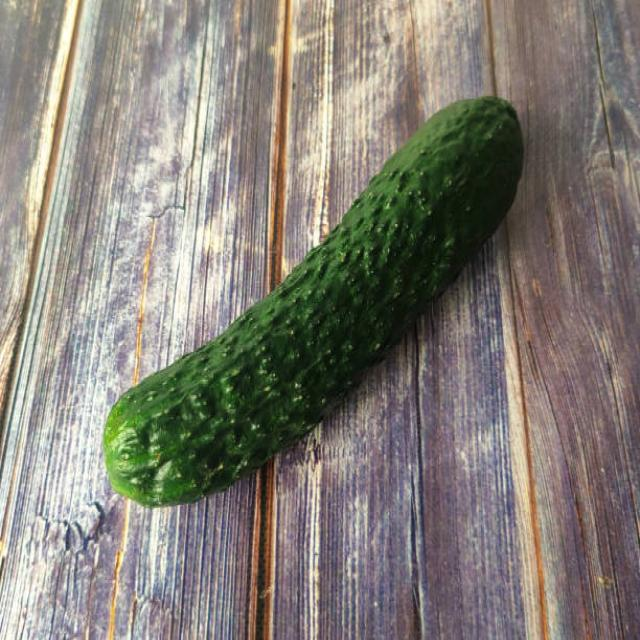cucumber: (103, 96, 523, 509)
